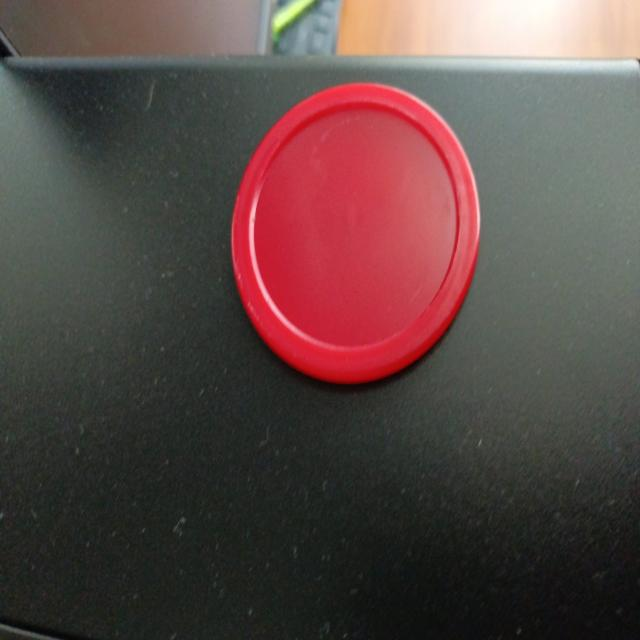chip: (229, 80, 480, 387)
